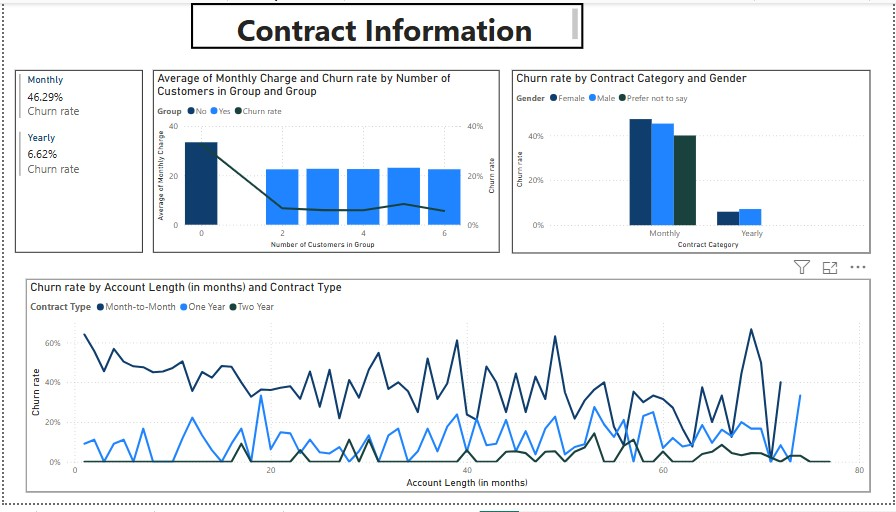

Layout of this report page (visuals, bound fields, positions):
{"tool":"powerbi","page":{"name":"Contract Factors","canvas":[1280,720],"ordinal":2},"visuals":[{"type":"lineStackedColumnComboChart","fields":{"Category":["Databel - Data.Number of Customers in Group"],"Y":["Avg(Databel - Data.Monthly Charge)"],"Series":["Databel - Data.Group"],"Y2":["MeasureTable.Churn rate"]},"box":[214.5,96.5,498.8,262.8],"z":0},{"type":"textbox","box":[269.9,0,564.9,66.1],"z":1000},{"type":"multiRowCard","fields":{"Values":["Databel - Data.Contract Category","MeasureTable.Churn rate"]},"box":[16.1,96.5,184.1,262.8],"z":2000},{"type":"clusteredColumnChart","fields":{"Y":["MeasureTable.Churn rate"],"Category":["Databel - Data.Contract Category"],"Series":["Databel - Data.Gender"]},"box":[731.5,96.5,515.5,263.5],"z":3000},{"type":"lineChart","fields":{"Y":["MeasureTable.Churn rate"],"Category":["Databel - Data.Account Length (in months)"],"Series":["Databel - Data.Contract Type"]},"box":[32.2,396.9,1215.6,307.5],"z":4000}]}

Visuals, with their boxes in screenshot pixels (x1, y1, x2, y2), scaled from the page's 1280x720 canvas onto the 896x512 screenshot:
lineStackedColumnComboChart - Databel - Data.Number of Customers in Group x Avg(Databel - Data.Monthly Charge): [150, 69, 499, 256]
textbox: [189, 0, 584, 47]
multiRowCard - Databel - Data.Contract Category x MeasureTable.Churn rate: [11, 69, 140, 256]
clusteredColumnChart - MeasureTable.Churn rate x Databel - Data.Contract Category: [512, 69, 873, 256]
lineChart - MeasureTable.Churn rate x Databel - Data.Account Length (in months): [23, 282, 873, 501]
